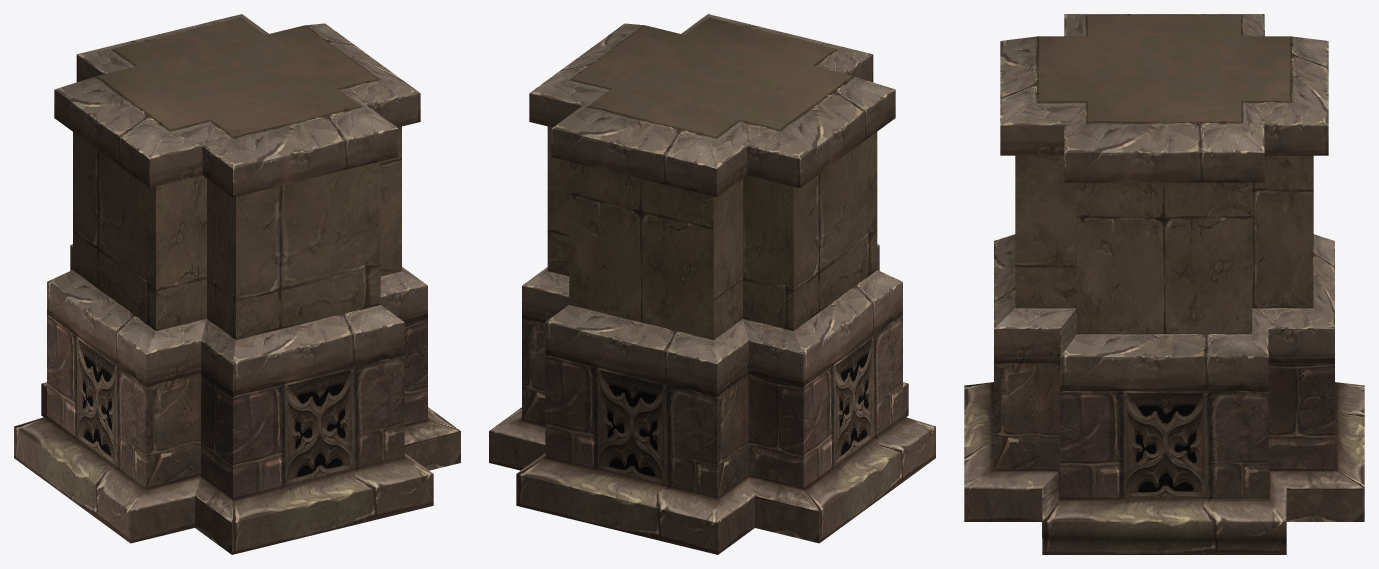
The model's file is A03_pillar_d_half.FBX.
3 views of the same model, side by side, from view 1: azimuth 30°, elevation 25°; view 2: azimuth 150°, elevation 25°; view 3: azimuth 270°, elevation 25° (orthographic). The views are drawn at different scales.
Visible parts, largest first — view 1: A03_pillar_d_half; view 2: A03_pillar_d_half; view 3: A03_pillar_d_half.
Boxes of the visible parts, x1,y1,x2,y2 form: A03_pillar_d_half: [14, 14, 460, 554]; A03_pillar_d_half: [489, 14, 935, 554]; A03_pillar_d_half: [964, 14, 1364, 554].
Bounding box in the file's own units: 2.58 × 2.86 × 2.58.
1 material, 1 textured.
